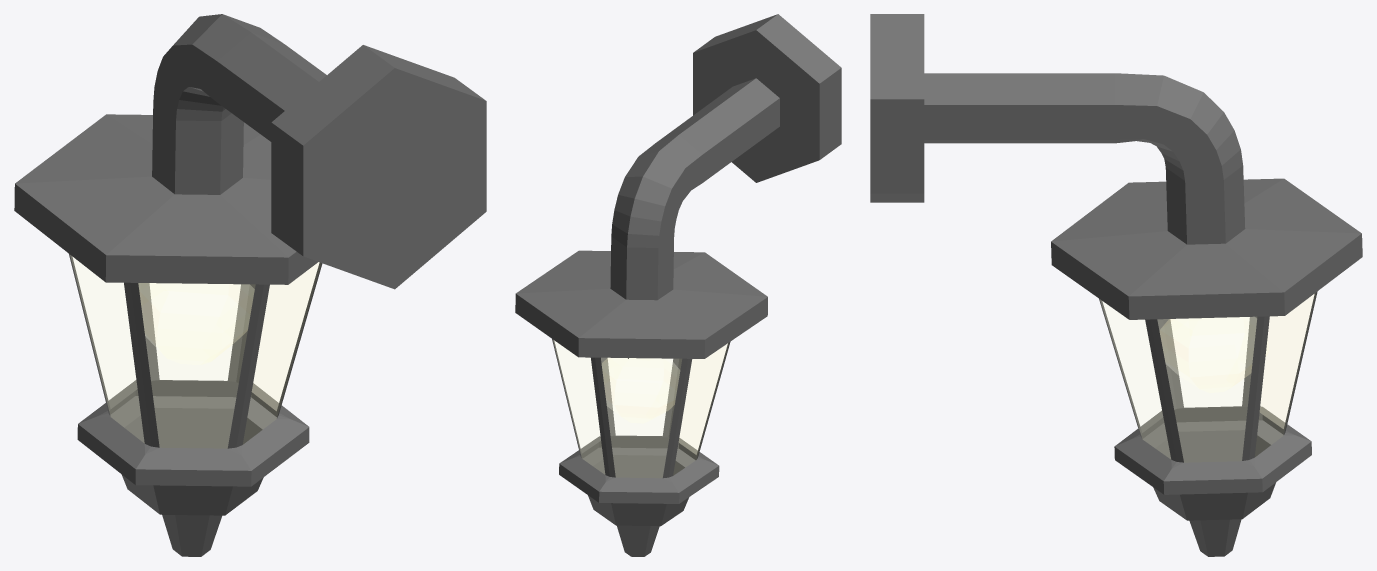
File: HangingLamp-1.glb
3 views of the same model, side by side, from view 1: azimuth 30°, elevation 25°; view 2: azimuth 150°, elevation 25°; view 3: azimuth 270°, elevation 25° (orthographic). The views are drawn at different scales.
Parts seen in each view (by area): view 1: HangingLamp-1-col, LampWallMount-1-col; view 2: HangingLamp-1-col, LampWallMount-1-col; view 3: HangingLamp-1-col, LampWallMount-1-col.
Part boxes in pixels (<box>): HangingLamp-1-col: <box>14,114,322,556</box>; LampWallMount-1-col: <box>152,14,486,289</box>; HangingLamp-1-col: <box>515,250,767,556</box>; LampWallMount-1-col: <box>610,14,841,294</box>; HangingLamp-1-col: <box>1051,178,1362,556</box>; LampWallMount-1-col: <box>870,14,1244,237</box>.
Bounding box in the file's own units: 0.259 × 0.5697 × 0.4734.
